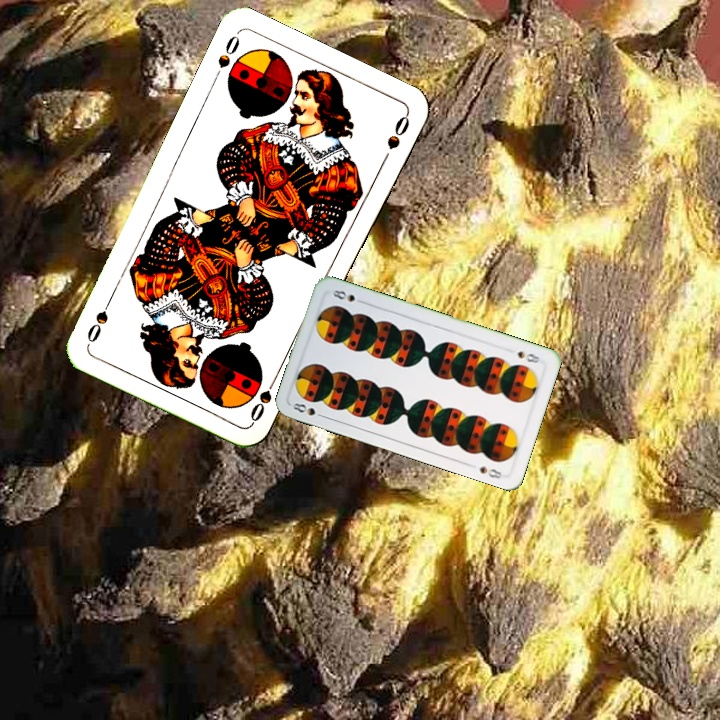S8: (288, 399, 328, 420), (514, 347, 543, 366)
SO: (209, 29, 243, 85), (246, 370, 281, 424)
